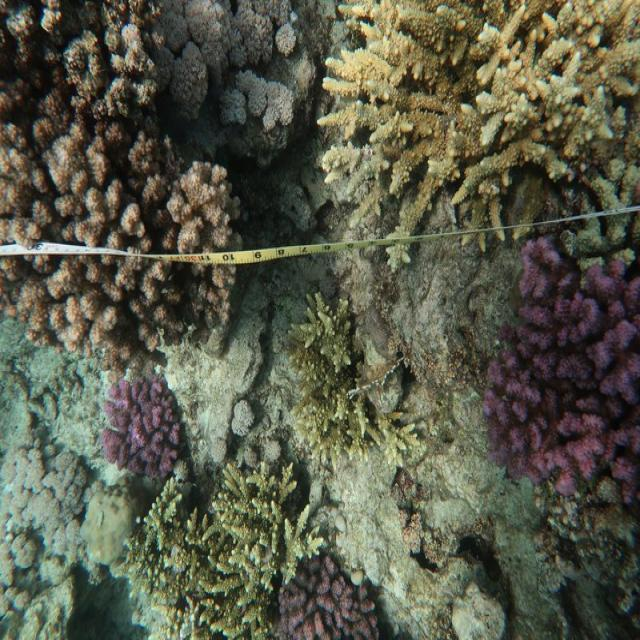Healthy Coral: (480, 231, 640, 506), (275, 557, 384, 640), (104, 366, 181, 478)
